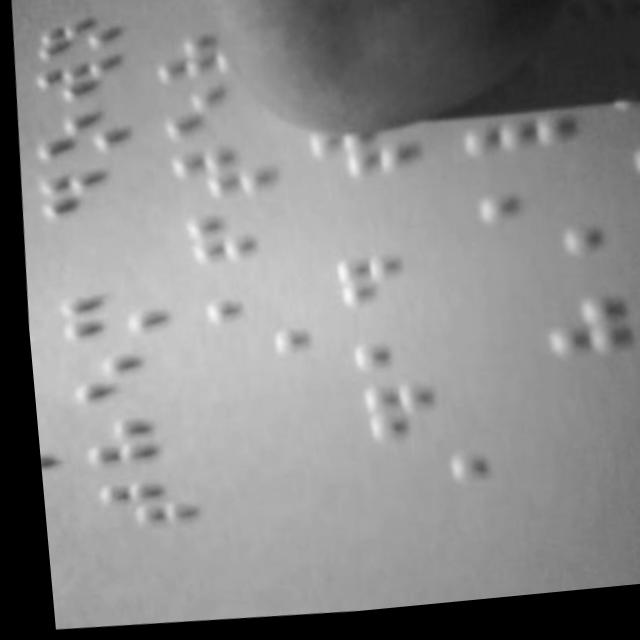braiile: (452, 78, 574, 167), (461, 159, 584, 240), (158, 139, 286, 211), (321, 244, 443, 319), (347, 379, 466, 453), (168, 207, 290, 273), (51, 278, 169, 346), (335, 316, 450, 384), (80, 473, 198, 536), (74, 408, 186, 474), (188, 266, 298, 331), (30, 159, 142, 221), (63, 347, 174, 409), (19, 50, 134, 109), (23, 104, 135, 162), (23, 10, 127, 60)
